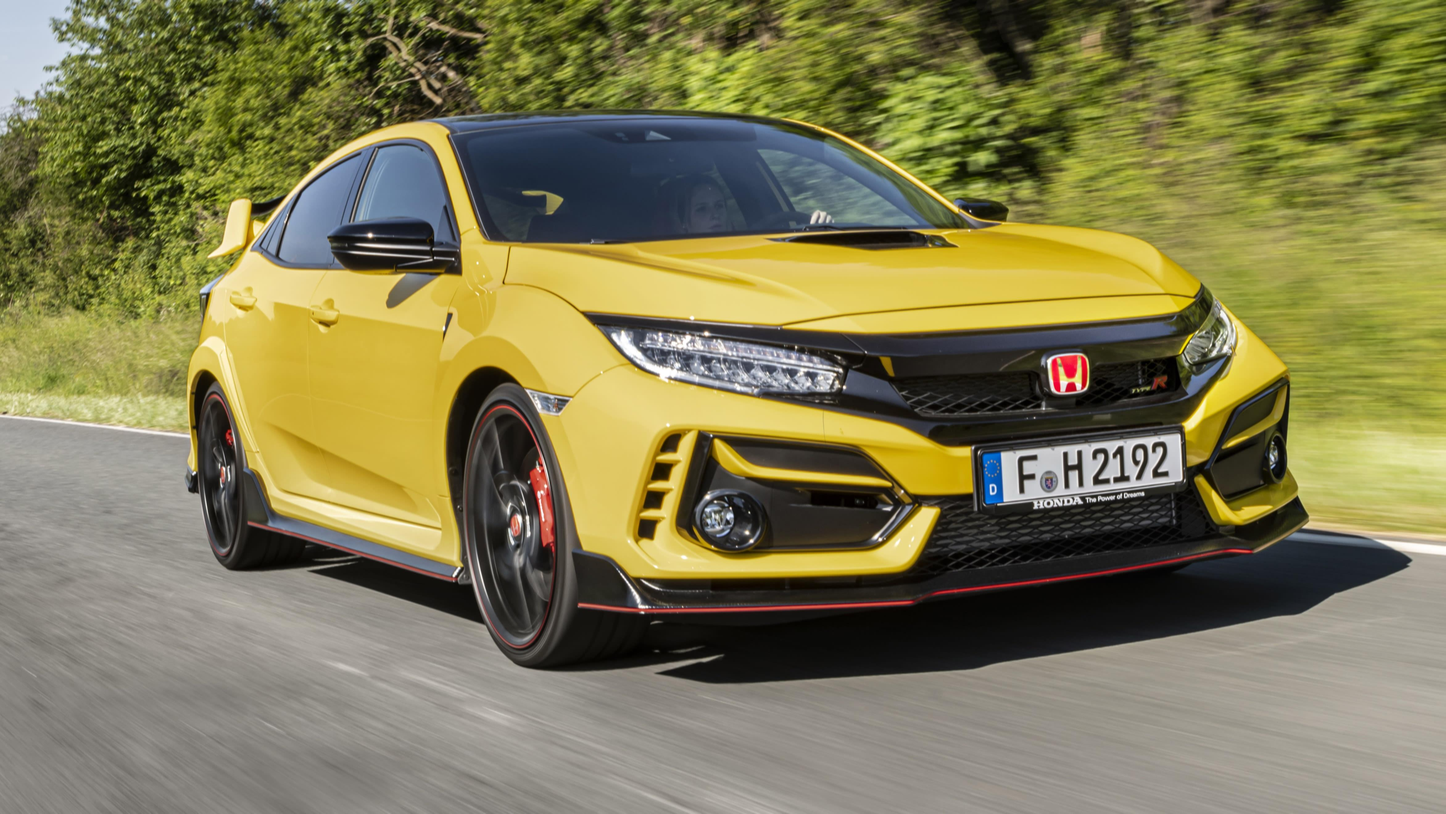Car hood: (499, 223, 1237, 337)
Driver-s door - -F-R-: (349, 136, 465, 517)
Fender - -F-R-: (432, 237, 631, 593)
Front bumper: (544, 363, 1324, 624)
Headlight - -L-: (1145, 294, 1262, 405)
Headlight - -R-: (571, 300, 881, 416)
Passenger-s door - -R-R-: (233, 128, 364, 516)
Side bumper - -R-: (224, 475, 479, 602)
Side mirror - -L-: (926, 179, 1035, 237)
Side mirror - -R-: (316, 198, 485, 290)
